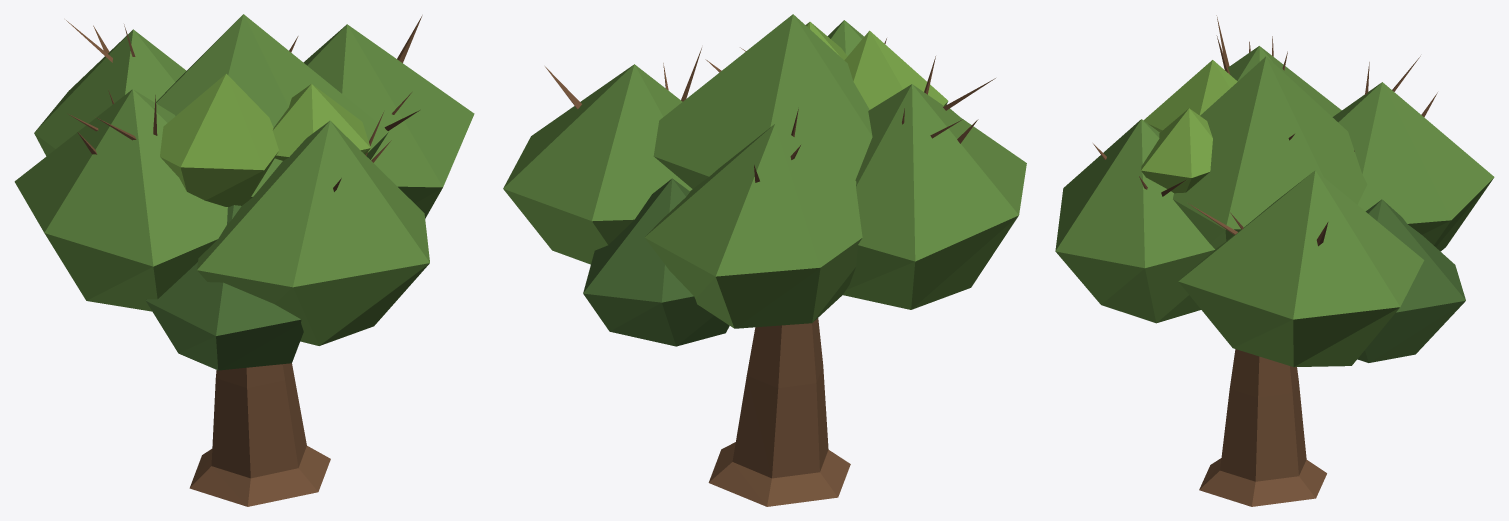
Rendered from tree_oak_3.obj.
The picture shows the model from 3 angles, left to right: view 1: azimuth 30°, elevation 25°; view 2: azimuth 150°, elevation 25°; view 3: azimuth 270°, elevation 25°; orthographic projection. The views are drawn at different scales.
Parts seen in each view (by area): view 1: tree_oak_3; view 2: tree_oak_3; view 3: tree_oak_3.
Boxes of the visible parts, x1,y1,x2,y2 form: tree_oak_3: [14, 14, 474, 506]; tree_oak_3: [503, 14, 1026, 506]; tree_oak_3: [1055, 15, 1494, 506].
Size of the model in its own units: 1.06 by 1.03 by 0.9744.
